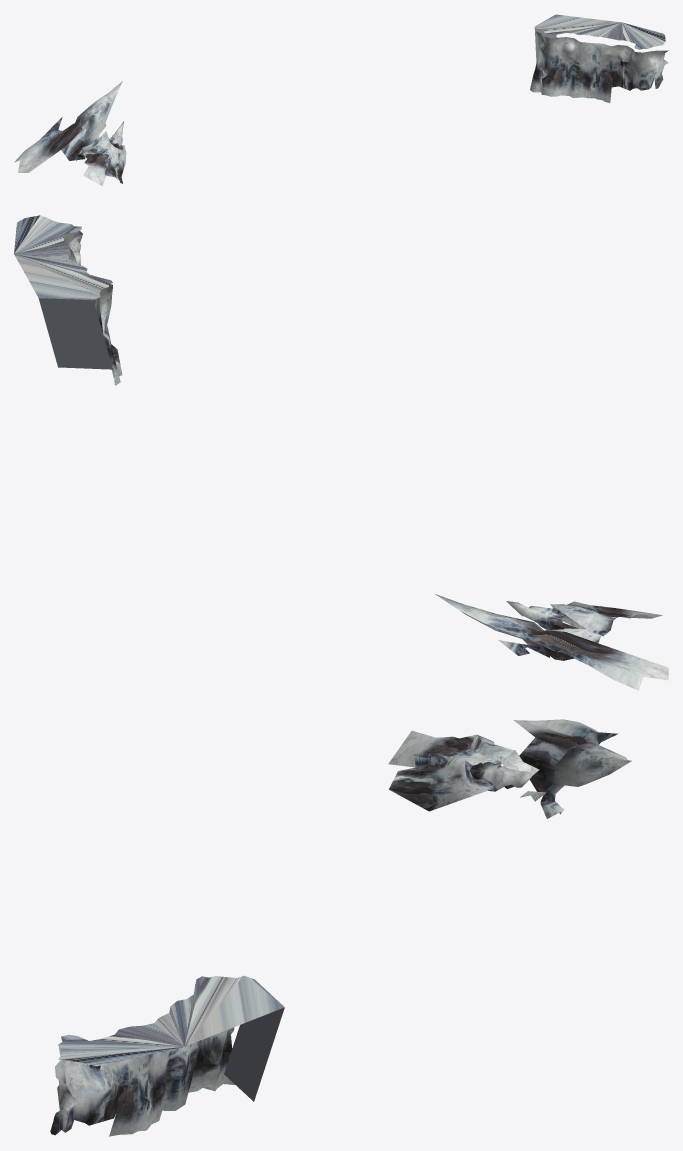
File: S_Rock_White026_1.FBX
The picture shows the model from 3 angles, top to bottom: view 1: azimuth 30°, elevation 25°; view 2: azimuth 150°, elevation 25°; view 3: azimuth 270°, elevation 25°; orthographic projection. The views are drawn at different scales.
Parts seen in each view (by area): view 1: S_Rock_White026_001, S_Rock_White016_001; view 2: S_Rock_White026_001, S_Rock_White016_001; view 3: S_Rock_White026_001, S_Rock_White016_001.
Boxes of the visible parts, x1,y1,x2,y2 form: S_Rock_White026_001: (530, 14, 668, 102); S_Rock_White016_001: (14, 81, 126, 186); S_Rock_White026_001: (14, 215, 122, 385); S_Rock_White016_001: (434, 593, 668, 690); S_Rock_White026_001: (50, 975, 284, 1136); S_Rock_White016_001: (388, 719, 631, 818).
Size of the model in its own units: 8028 by 3774 by 1417.
